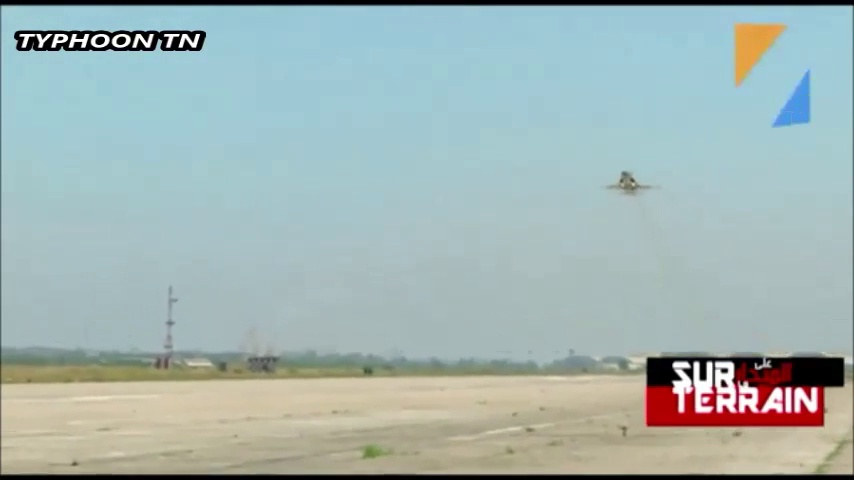Airplane: (600, 169, 658, 196)
